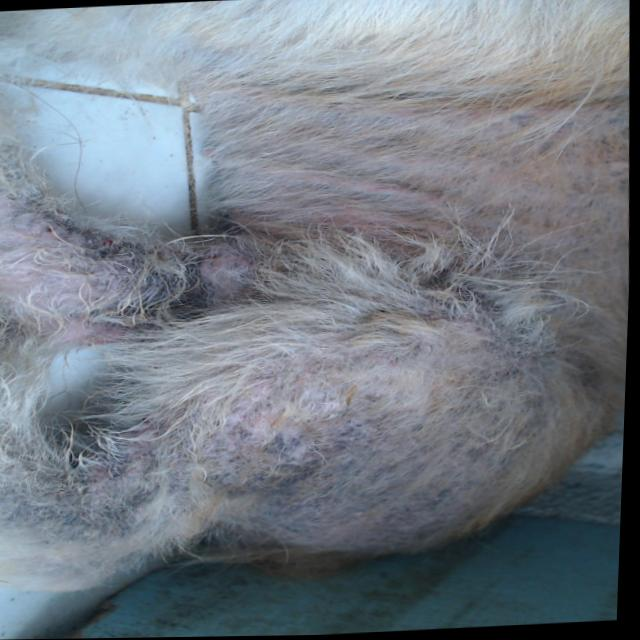demodicosis: (127, 380, 465, 548), (273, 110, 448, 241), (0, 229, 173, 314)
